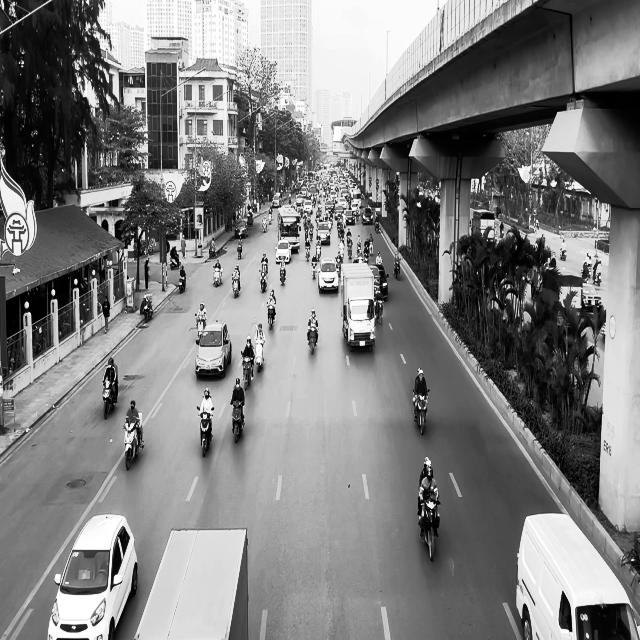car: (47, 514, 138, 640), (194, 320, 232, 378), (317, 256, 339, 292), (581, 284, 602, 312), (275, 240, 292, 263), (234, 219, 248, 238)
motorbike: (418, 497, 440, 561), (124, 412, 144, 470), (196, 405, 214, 457), (412, 388, 429, 435), (230, 399, 245, 444), (102, 377, 118, 419), (241, 351, 254, 389), (307, 323, 318, 354), (195, 313, 206, 344), (254, 340, 264, 372), (374, 290, 383, 324), (142, 295, 153, 321), (266, 302, 276, 330), (231, 273, 240, 298), (213, 264, 222, 287), (279, 257, 286, 285), (259, 268, 267, 292), (178, 273, 186, 293), (310, 256, 317, 278), (394, 258, 401, 279), (237, 244, 243, 259)
truck: (516, 512, 639, 639), (340, 262, 376, 351)
